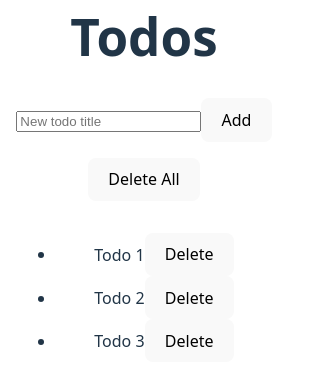
it: App › deletes all todos when Delete All button is clicked
Expected: the text "Todo 1" is shown, [94, 244, 145, 266]
Expected: the text "Todo 2" is shown, [94, 287, 145, 309]
Step 1. Click the button with test id "delete-all-button" → click(144, 179), box [88, 158, 200, 201]
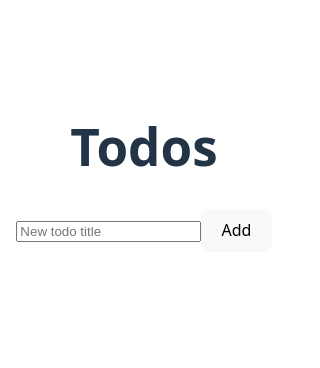
Now the text "Todo 1" is gone
Now the text "Todo 2" is gone
Now the text "Todo 3" is gone
